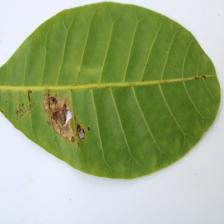leaf miner: (0, 0, 221, 180)
